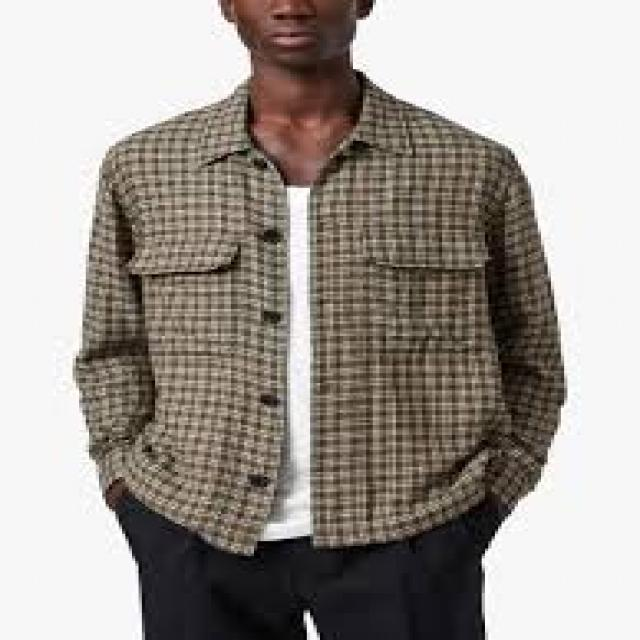plaid: (18, 82, 593, 558)
